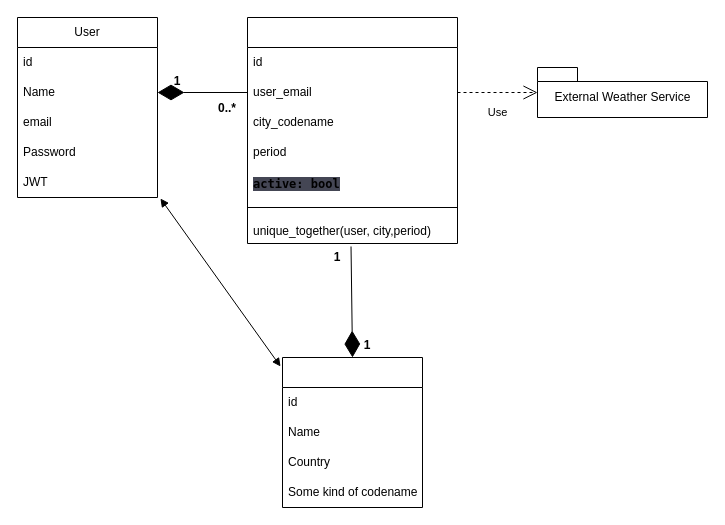
Image size: 725x525. Some labels were removed from this diagram. The shapes that lost their labels are listed below. From the top down, each one's box as (x1, y1, x2, y2) in pixels, then its label:
(246, 16, 458, 244): Subscription
(282, 356, 422, 508): City
